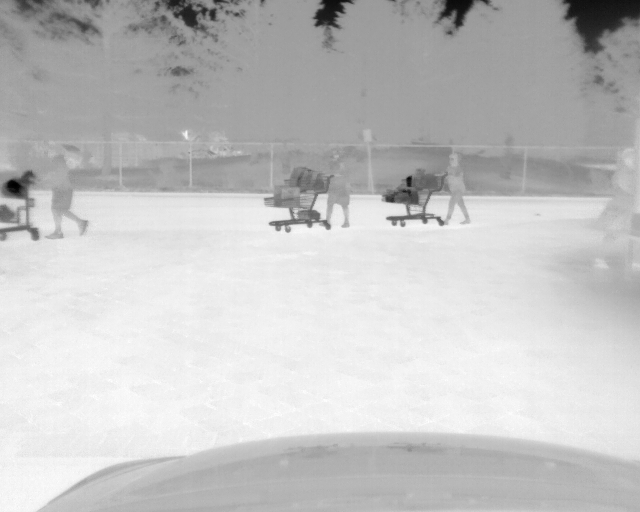people: (592, 147, 640, 272), (31, 144, 90, 243), (319, 147, 353, 231), (441, 148, 472, 226)
